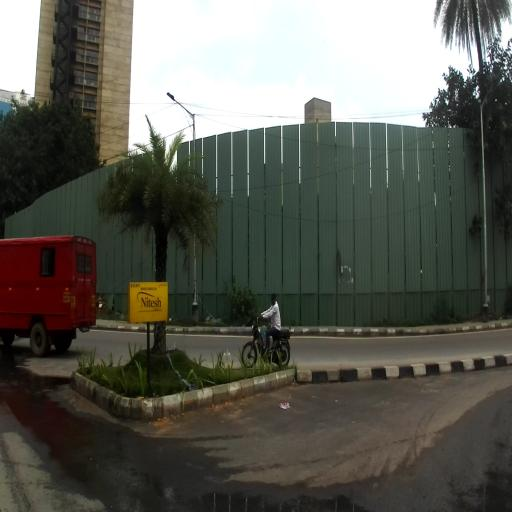street_light_0: (167, 92, 194, 120)
